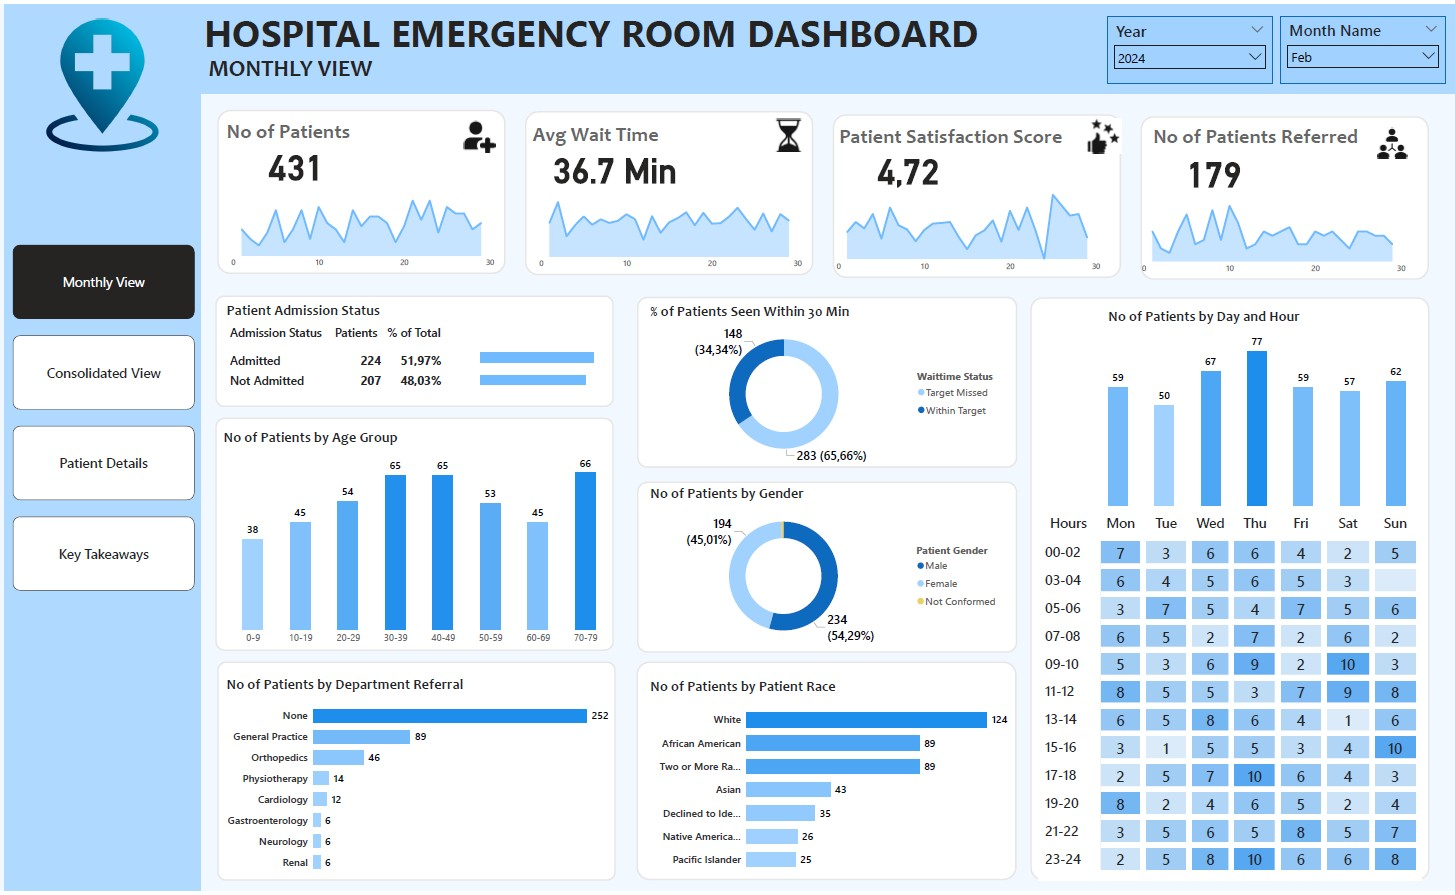

This screenshot's page, from the dashboard's own definition file:
{"tool":"powerbi","page":{"name":"Monthly View","canvas":[2300,1400],"ordinal":0},"visuals":[{"type":"shape","box":[9.9,0,310,1400.5],"z":0},{"type":"shape","box":[320.5,0,1980,140.5],"z":1000},{"type":"textbox","box":[320,0,1255,100],"z":2000},{"type":"textbox","box":[320,72.5,285,67.5],"z":3000},{"type":"shape","box":[345.9,166.9,455,258.8],"z":4000},{"type":"card","fields":{"Values":["Hospital ER_Data.No of Patients"]},"box":[389.4,205.6,162.1,91.9],"z":5000},{"type":"slicer","fields":{"Values":["Date Table.Year"]},"box":[1751.2,19.4,261.2,106.4],"z":6000},{"type":"slicer","fields":{"Values":["Date Table.Month Name"]},"box":[2024.5,19.4,261.2,106.4],"z":7000},{"type":"textbox","box":[355.6,176.6,249.1,62.9],"z":8000},{"type":"areaChart","fields":{"Y":["Hospital ER_Data.No of Patients"],"Category":["Date Table.Date.Variation.Date Hierarchy.Day"]},"box":[355.6,280.6,435.4,145.1],"z":9000},{"type":"shape","box":[832.2,169.3,454.7,258.8],"z":10000},{"type":"card","fields":{"Values":["Hospital ER_Data.Avg Wait Time"]},"box":[863.5,210.4,220.1,91.9],"z":11000},{"type":"textbox","box":[839.3,181.4,263.7,62.9],"z":12000},{"type":"areaChart","fields":{"Y":["Avg(Hospital ER_Data.Patient Waittime)"],"Category":["Date Table.Date.Variation.Date Hierarchy.Day"]},"box":[841.7,283,435.4,145.1],"z":13000},{"type":"shape","box":[1318.2,173.5,455,258.8],"z":14000},{"type":"card","fields":{"Values":["Hospital ER_Data.Satisfaction Score"]},"box":[1355.7,212.1,162.1,91.9],"z":15000},{"type":"textbox","box":[1323.1,183.8,406.4,62.9],"z":16000},{"type":"areaChart","fields":{"Category":["Date Table.Date.Variation.Date Hierarchy.Day"],"Y":["Hospital ER_Data.Satisfaction Score"]},"box":[1312.1,287,435.4,145.1],"z":17000},{"type":"shape","box":[1804.4,176.6,455,258.8],"z":18000},{"type":"card","fields":{"Values":["Hospital ER_Data.No of Patient Referred"]},"box":[1837.8,216.2,162.1,91.9],"z":19000},{"type":"textbox","box":[1818.9,183.8,365.2,62.9],"z":20000},{"type":"areaChart","fields":{"Y":["Hospital ER_Data.No of Patient Referred"],"Category":["Date Table.Date.Variation.Date Hierarchy.Day"]},"box":[1794.3,291.2,435.4,145.1],"z":21000},{"type":"shape","box":[343.5,459.6,628.9,176.6],"z":22000},{"type":"pivotTable","title":"Patient Admission Status","fields":{"Rows":["Hospital ER_Data.Admission Status"],"Values":["Hospital ER_Data.No of Patients1","Hospital ER_Data.No of Patients"]},"box":[355.6,469.2,616.8,157.2],"z":23000},{"type":"barChart","fields":{"Category":["Hospital ER_Data.Admission Status"],"Y":["Hospital ER_Data.No of Patients"]},"box":[757.1,520,249.1,106.4],"z":24000},{"type":"shape","box":[343.5,653.1,628.9,368],"z":25000},{"type":"clusteredColumnChart","fields":{"Category":["Hospital ER_Data.Age Group"],"Y":["Hospital ER_Data.No of Patients"]},"box":[350.7,670,628.9,350.7],"z":26000},{"type":"shape","box":[345.9,1037.7,628.9,345.9],"z":27000},{"type":"clusteredBarChart","fields":{"Category":["Hospital ER_Data.Department Referral"],"Y":["Hospital ER_Data.No of Patients"]},"box":[355.6,1059.4,616.8,324.1],"z":28000},{"type":"shape","box":[1008.6,462,600,270],"z":29000},{"type":"donutChart","title":"% of Patients Seen Within 30 Min","fields":{"Category":["Hospital ER_Data.Waittime Status"],"Y":["Hospital ER_Data.No of Patients"]},"box":[1025,470,565,262.5],"z":30000},{"type":"shape","box":[1008.6,754,600,270],"z":31000},{"type":"donutChart","title":"No of Patients by Gender","fields":{"Y":["Hospital ER_Data.No of Patients"],"Category":["Hospital ER_Data.Patient Gender"]},"box":[1025,757.5,565,262.5],"z":32000},{"type":"shape","box":[1007.5,1037.5,600,345],"z":33000},{"type":"clusteredBarChart","fields":{"Y":["Hospital ER_Data.No of Patients"],"Category":["Hospital ER_Data.Patient Race"]},"box":[1025,1062.5,575,320],"z":34000},{"type":"shape","box":[1630,462.5,630,920],"z":35000},{"type":"pivotTable","fields":{"Rows":["Hospital ER_Data.Waittime Interval"],"Columns":["Date Table.Day Name"],"Values":["Hospital ER_Data.No of Patients"]},"box":[1642.5,797.5,605,585],"z":36000},{"type":"columnChart","title":"No of Patients by Day and Hour","fields":{"Category":["Date Table.Day Name"],"Y":["Hospital ER_Data.No of Patients"]},"box":[1747.5,477.5,482.5,320],"z":37000},{"type":"image","box":[730,177.5,60,62.5],"z":38000},{"type":"image","box":[1217.5,172.5,60,67.5],"z":39000},{"type":"image","box":[1710,175,70,65],"z":40000},{"type":"image","box":[2155,190,92.5,57.5],"z":41000},{"type":"image","box":[55,15,220,225],"z":42000},{"type":"pageNavigator","box":[22.5,380,287.5,547.5],"z":43000}]}

Visuals, with their boxes in screenshot pixels (x1, y1, x2, y2), scaled from the page's 2300x1400 canvas onto the 1455x895 screenshot:
shape: 6, 0, 202, 894
shape: 203, 0, 1454, 90
textbox: 202, 0, 996, 64
textbox: 202, 46, 383, 90
shape: 219, 107, 507, 272
card - Hospital ER_Data.No of Patients: 246, 131, 349, 190
slicer - Date Table.Year: 1108, 12, 1273, 80
slicer - Date Table.Month Name: 1281, 12, 1446, 80
textbox: 225, 113, 383, 153
areaChart - Hospital ER_Data.No of Patients x Date Table.Date.Variation.Date Hierarchy.Day: 225, 179, 500, 272
shape: 526, 108, 814, 274
card - Hospital ER_Data.Avg Wait Time: 546, 135, 685, 193
textbox: 531, 116, 698, 156
areaChart - Avg(Hospital ER_Data.Patient Waittime) x Date Table.Date.Variation.Date Hierarchy.Day: 532, 181, 808, 274
shape: 834, 111, 1122, 276
card - Hospital ER_Data.Satisfaction Score: 858, 136, 960, 194
textbox: 837, 118, 1094, 158
areaChart - Date Table.Date.Variation.Date Hierarchy.Day x Hospital ER_Data.Satisfaction Score: 830, 183, 1105, 276
shape: 1141, 113, 1429, 278
card - Hospital ER_Data.No of Patient Referred: 1163, 138, 1265, 197
textbox: 1151, 118, 1382, 158
areaChart - Hospital ER_Data.No of Patient Referred x Date Table.Date.Variation.Date Hierarchy.Day: 1135, 186, 1411, 279
shape: 217, 294, 615, 407
"Patient Admission Status" pivotTable: 225, 300, 615, 400
barChart - Hospital ER_Data.Admission Status x Hospital ER_Data.No of Patients: 479, 332, 637, 400
shape: 217, 418, 615, 653
clusteredColumnChart - Hospital ER_Data.Age Group x Hospital ER_Data.No of Patients: 222, 428, 620, 653
shape: 219, 663, 617, 885
clusteredBarChart - Hospital ER_Data.Department Referral x Hospital ER_Data.No of Patients: 225, 677, 615, 884
shape: 638, 295, 1018, 468
"% of Patients Seen Within 30 Min" donutChart: 648, 300, 1006, 468
shape: 638, 482, 1018, 655
"No of Patients by Gender" donutChart: 648, 484, 1006, 652
shape: 637, 663, 1017, 884
clusteredBarChart - Hospital ER_Data.No of Patients x Hospital ER_Data.Patient Race: 648, 679, 1012, 884
shape: 1031, 296, 1430, 884
pivotTable - Hospital ER_Data.Waittime Interval x Date Table.Day Name: 1039, 510, 1422, 884
"No of Patients by Day and Hour" columnChart: 1105, 305, 1411, 510
image: 462, 113, 500, 153
image: 770, 110, 808, 153
image: 1082, 112, 1126, 153
image: 1363, 121, 1422, 158
image: 35, 10, 174, 153
pageNavigator: 14, 243, 196, 593
